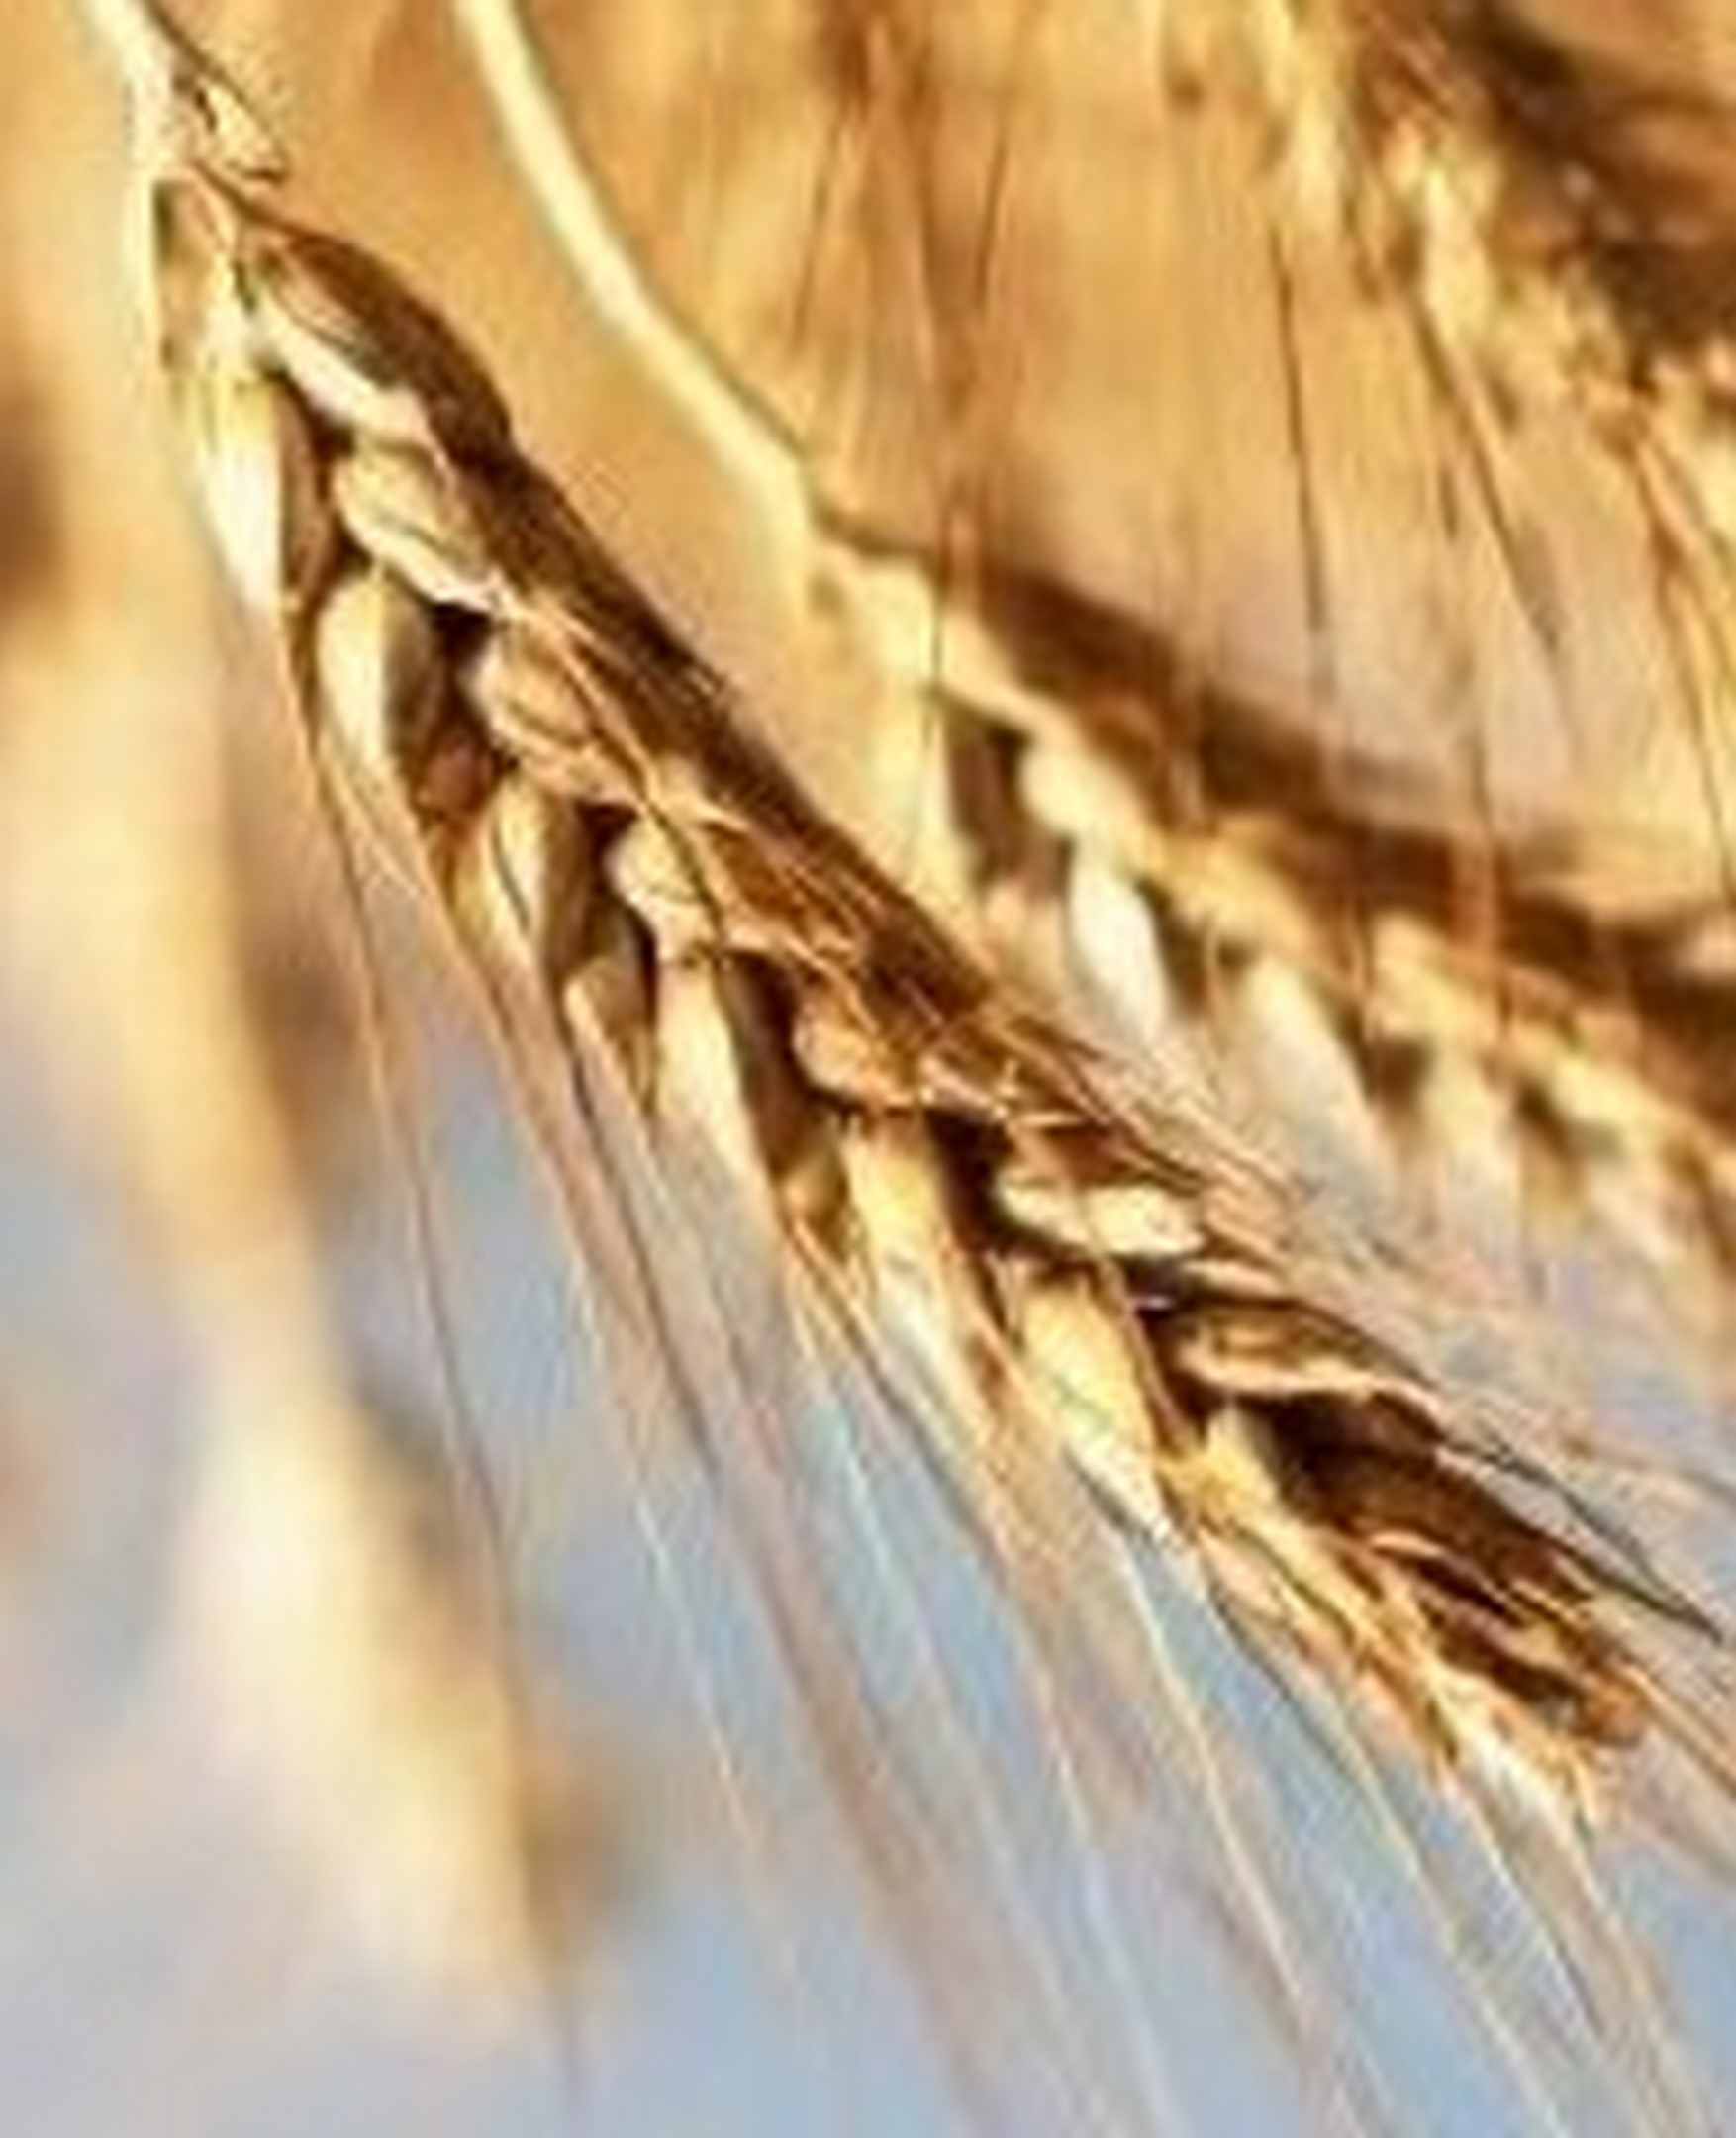Healthy Wheat: (147, 191, 1679, 1902)
